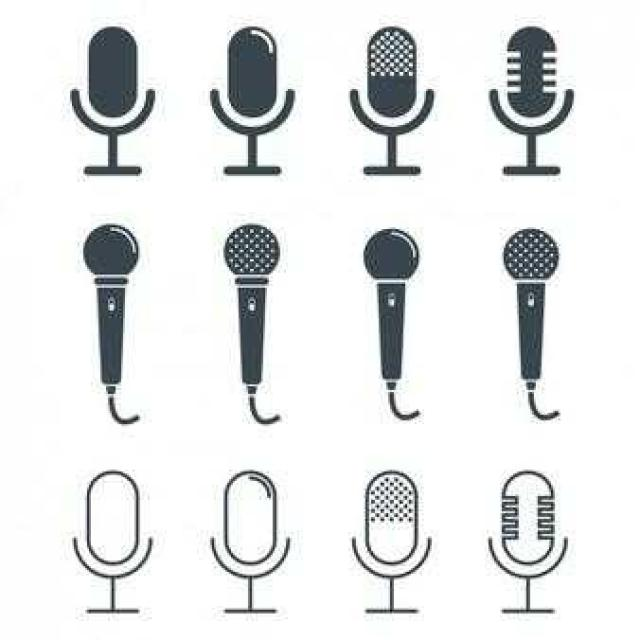microphone: (350, 28, 432, 175), (72, 28, 153, 176), (210, 28, 292, 174), (490, 28, 571, 174), (352, 471, 430, 611), (73, 471, 149, 613), (224, 222, 281, 411), (211, 473, 287, 612), (490, 473, 564, 610), (503, 228, 559, 408), (364, 228, 420, 404), (84, 222, 139, 400), (84, 224, 138, 276), (225, 224, 278, 276), (364, 229, 418, 280), (502, 229, 556, 280)
